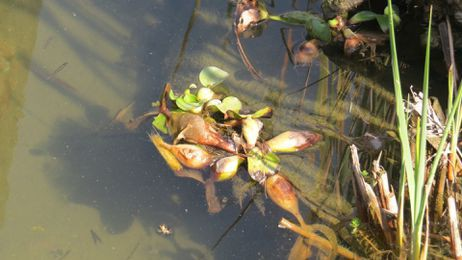water_hyacinth: (131, 60, 324, 231)
